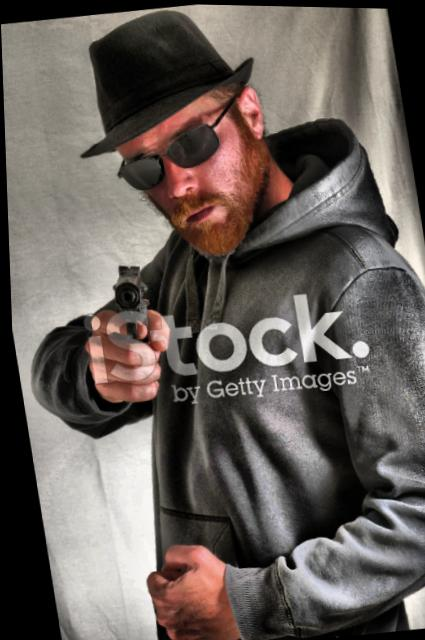pistol: (104, 257, 151, 346)
